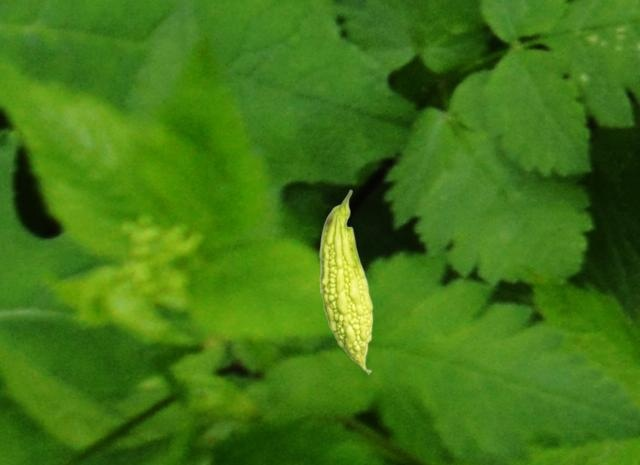ampalaya: (318, 189, 373, 375)
